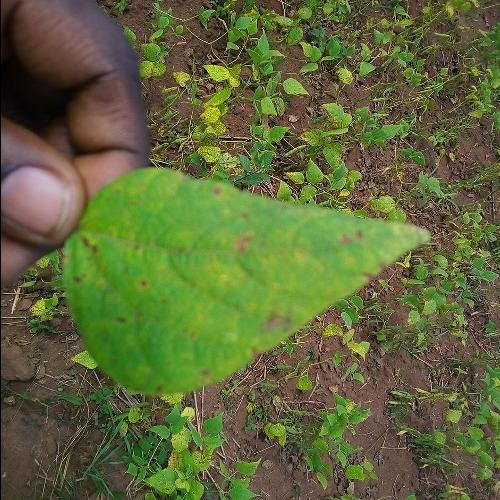mozaik: (79, 199, 362, 359)
